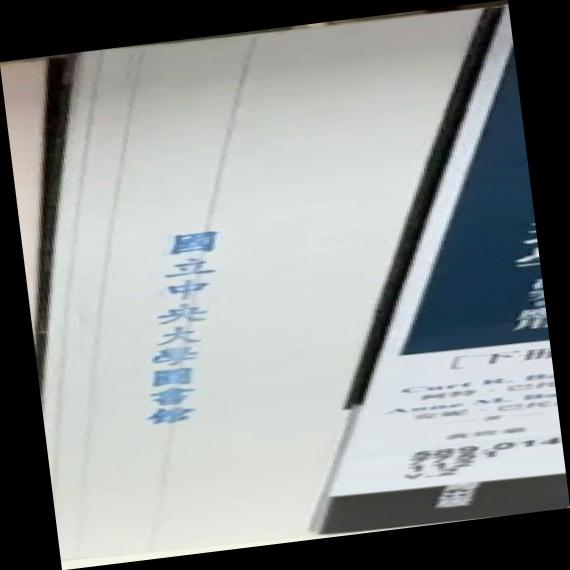backward: (1, 1, 570, 570)
